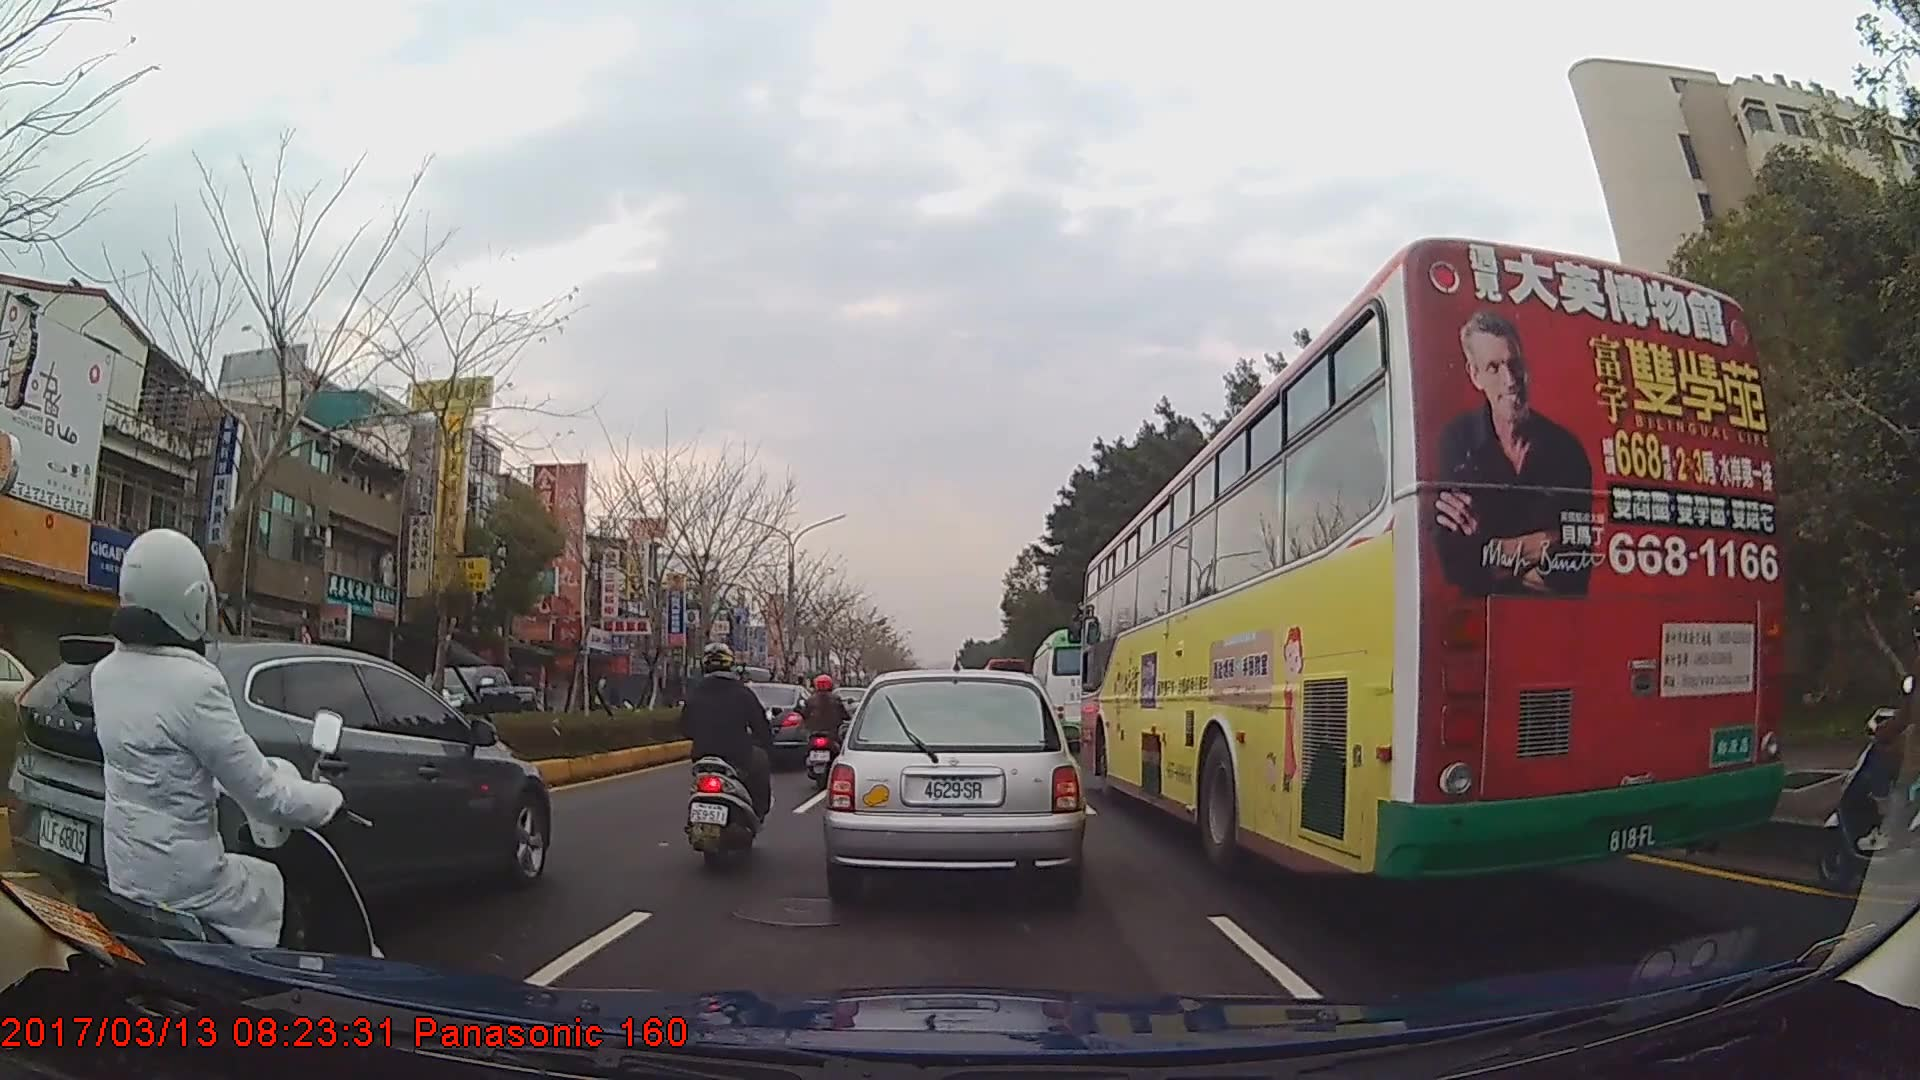rider: (48, 528, 378, 1049), (1817, 592, 1920, 887), (675, 643, 775, 870), (798, 675, 851, 791)
vehicle: (1081, 232, 1787, 883), (0, 624, 553, 922), (824, 670, 1082, 895), (1028, 628, 1115, 749), (416, 664, 537, 737), (720, 682, 819, 767)
